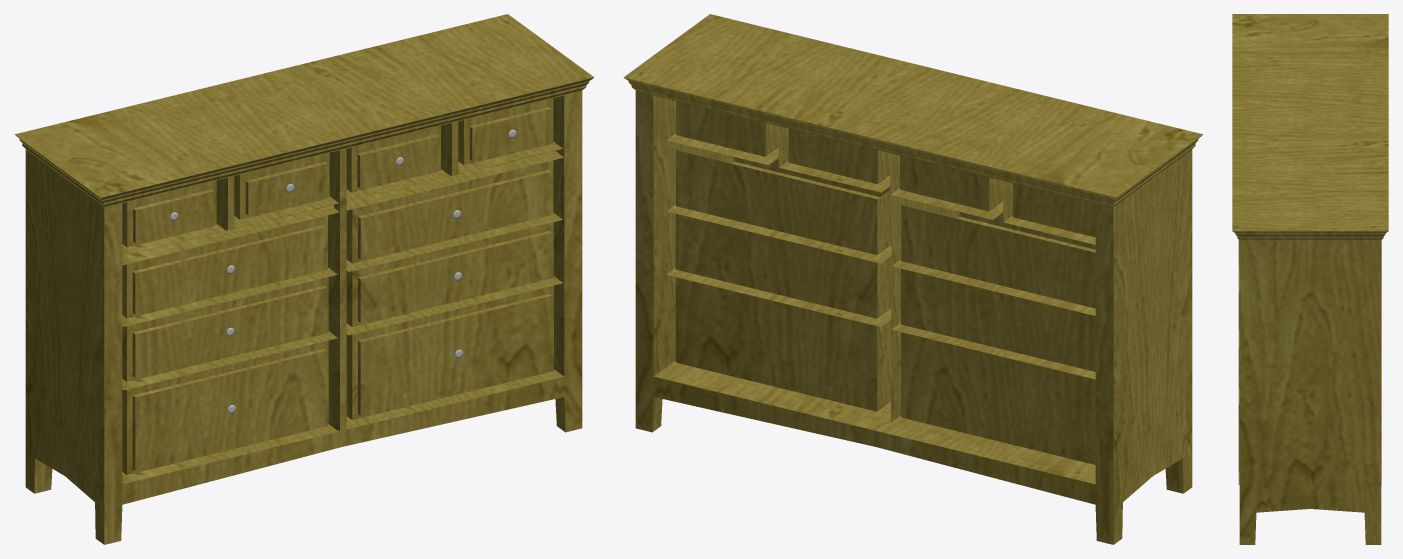
The model's file is largebox.glb.
3 views of the same model, side by side, from view 1: azimuth 30°, elevation 25°; view 2: azimuth 150°, elevation 25°; view 3: azimuth 270°, elevation 25° (orthographic). The views are drawn at different scales.
Visible parts, largest first — view 1: wood_obj; view 2: wood_obj; view 3: wood_obj.
Boxes of the visible parts, left/top/right/bottom form: wood_obj: left=14, top=14, right=594, bottom=544; wood_obj: left=623, top=14, right=1203, bottom=544; wood_obj: left=1232, top=14, right=1388, bottom=544.
Size of the model in its own units: 0.00156 by 0.00107 by 0.000476.
Materials: 2 (1 with a texture image).
